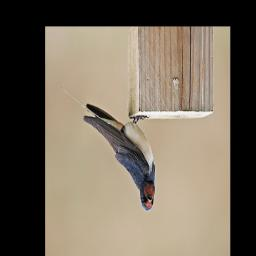Swallow: (60, 86, 156, 215)
